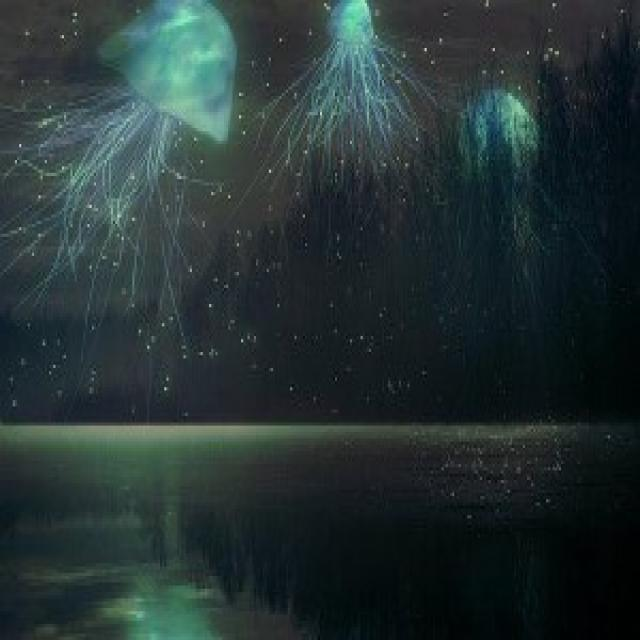Jellyfish: (45, 4, 236, 221), (312, 0, 404, 202)
